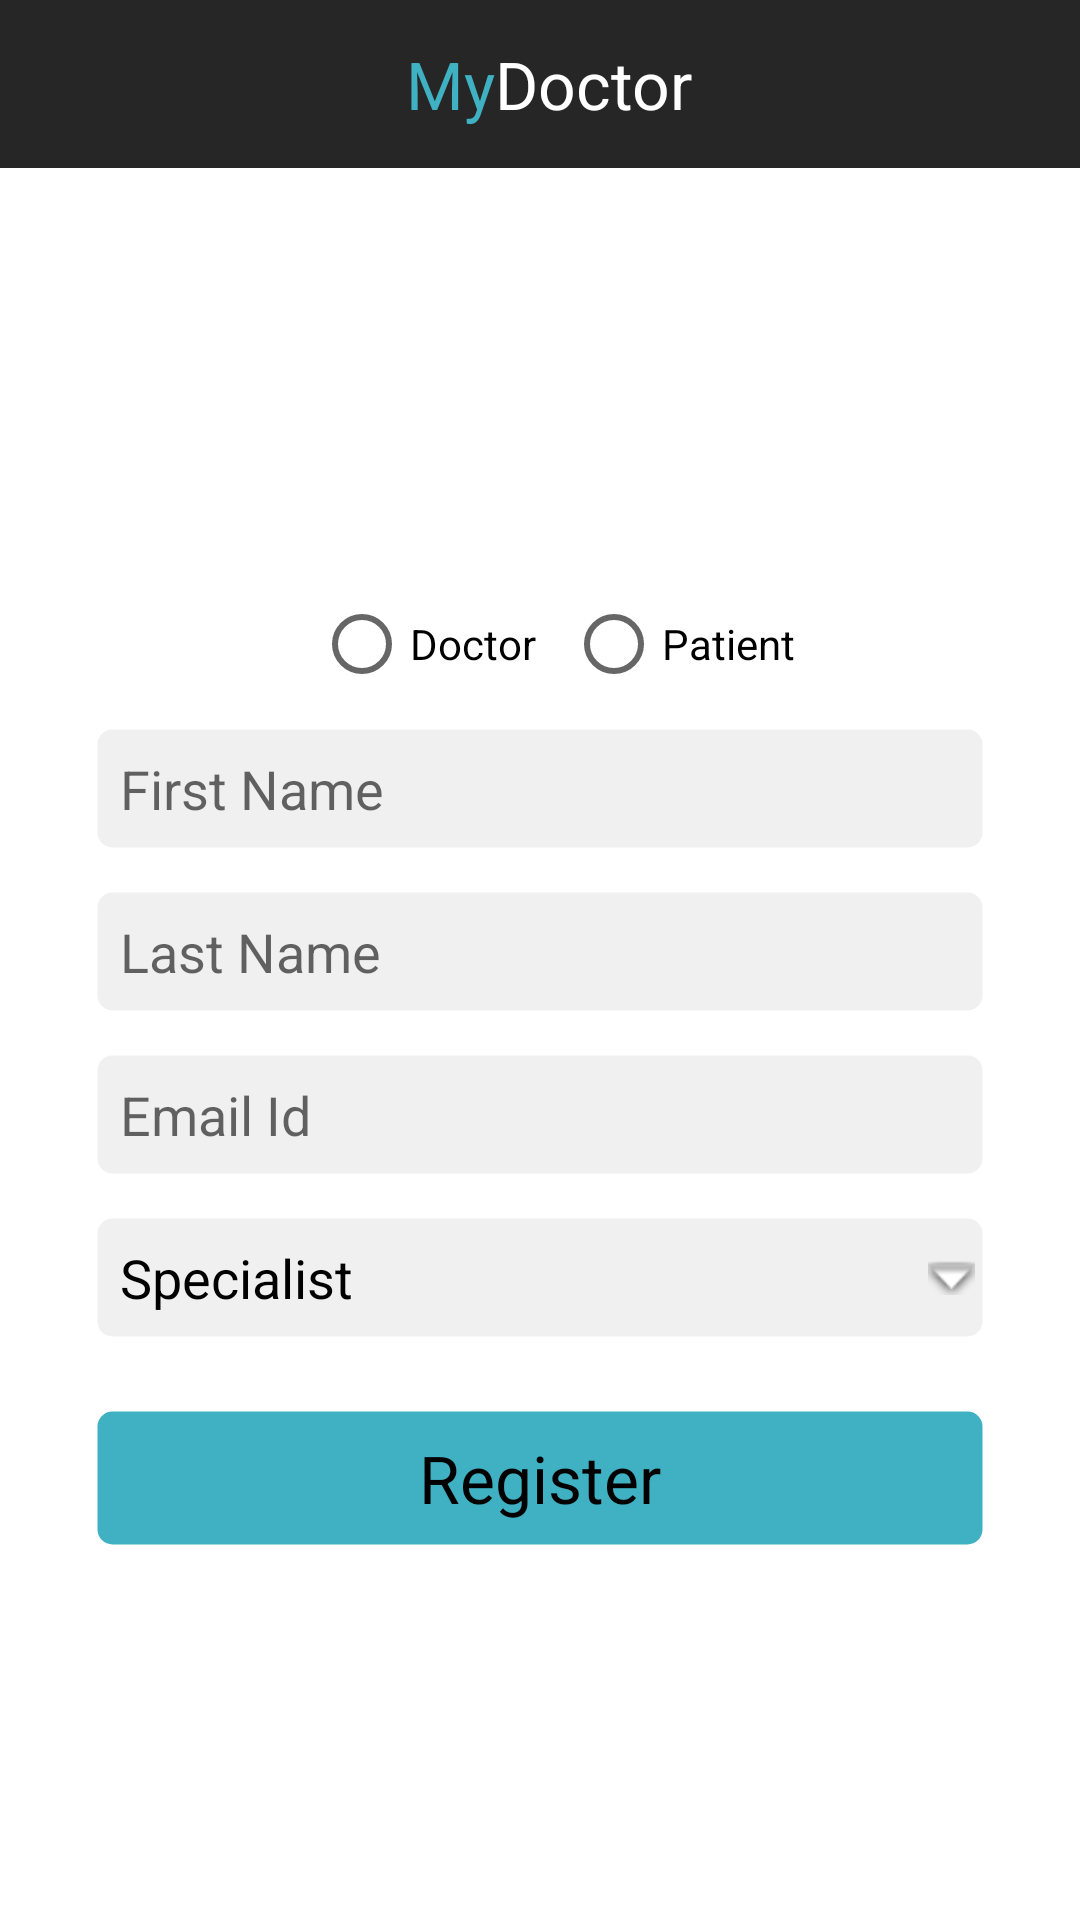

Named icons in this screenshot (1080*1920) and their centers, (x,y):
arrow down float: (951,1278)
